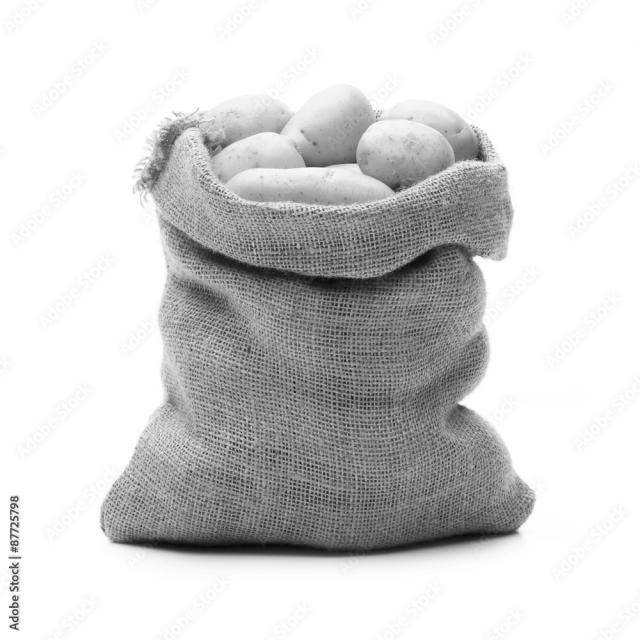sack: (100, 110, 534, 550)
